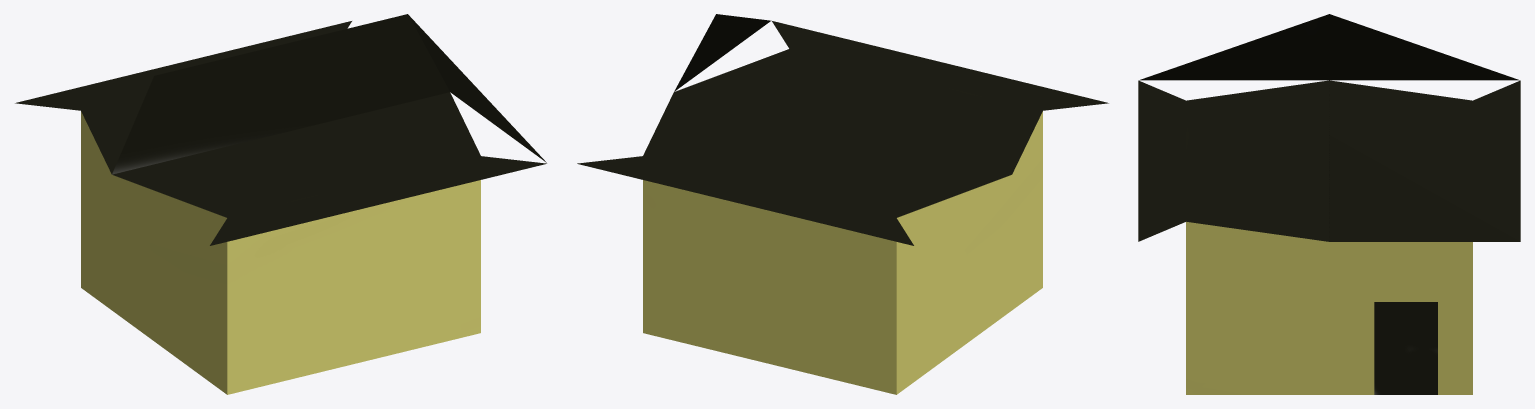
The model's file is House.fbx.
3 views of the same model, side by side, from view 1: azimuth 30°, elevation 25°; view 2: azimuth 150°, elevation 25°; view 3: azimuth 270°, elevation 25° (orthographic). The views are drawn at different scales.
Parts seen in each view (by area): view 1: 立方体; view 2: 立方体; view 3: 立方体.
Part boxes in pixels (bbox=[...]): 立方体: bbox=[15, 14, 546, 394]; 立方体: bbox=[577, 14, 1108, 394]; 立方体: bbox=[1138, 14, 1520, 394].
Bounding box in the file's own units: 800 × 600 × 800.
2 materials, 2 textured.
